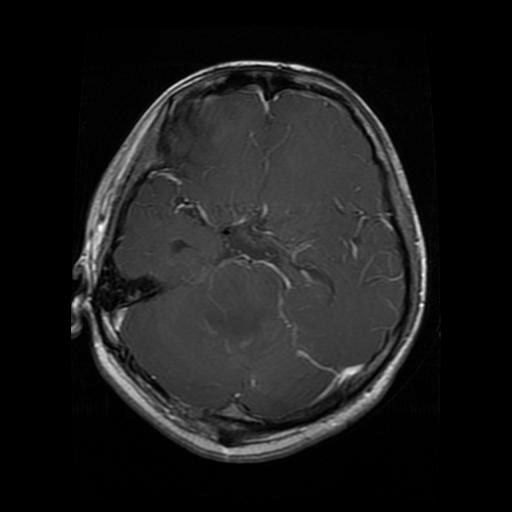Tumour-Glioma: (98, 246, 200, 323)
